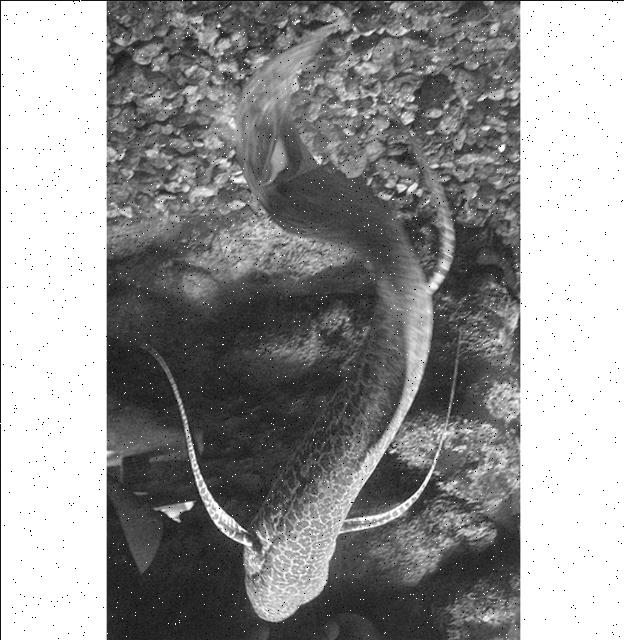Sirip Dada: (122, 306, 480, 546)
Sirip Ekor: (207, 5, 370, 195)
Sirip Perut: (358, 42, 474, 300)
